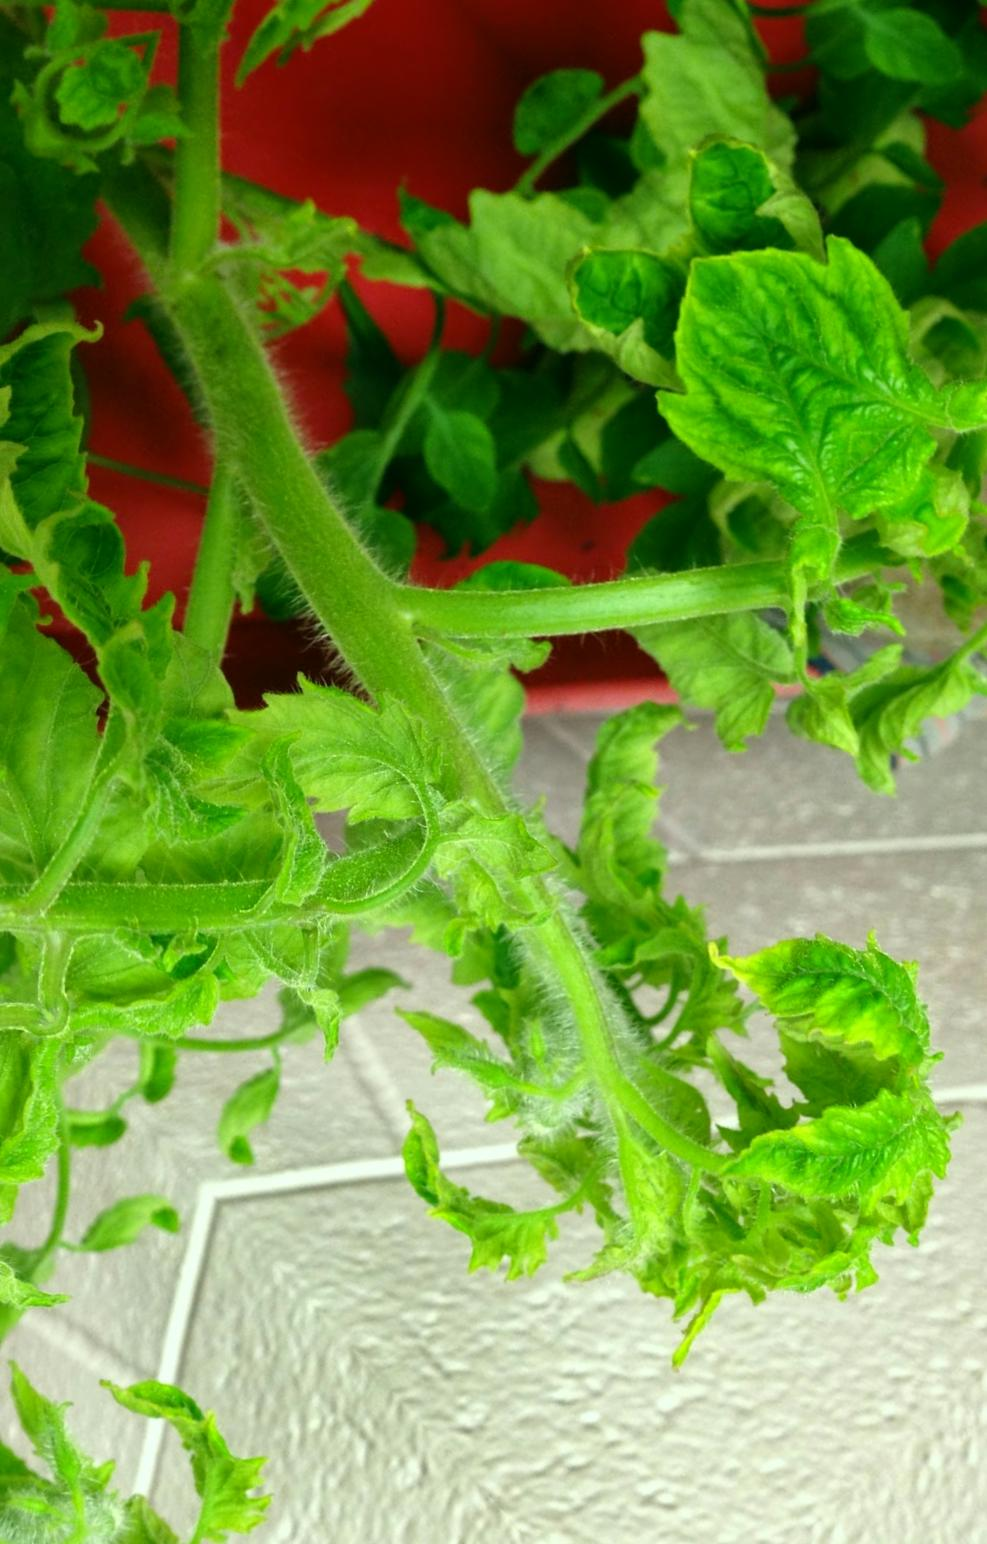Tomato leaf yellow virus: (0, 271, 326, 753), (564, 245, 928, 623), (660, 822, 976, 1142), (183, 625, 482, 925), (687, 1016, 982, 1312), (0, 530, 136, 898)
